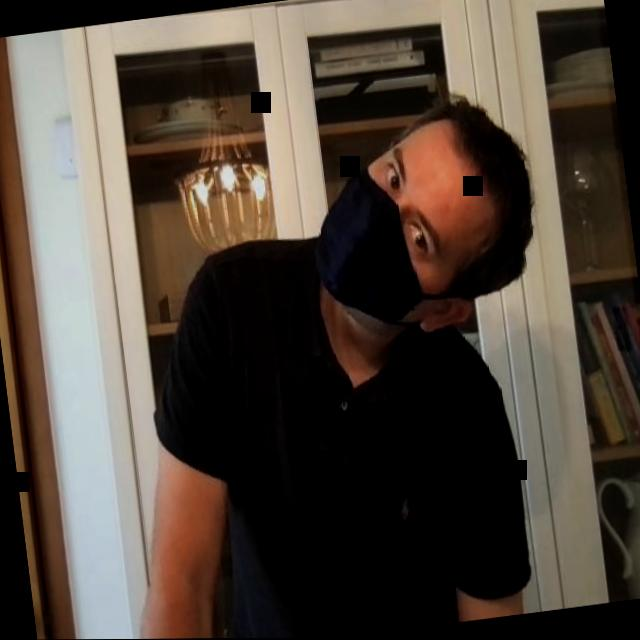Mask: (298, 92, 550, 353)
